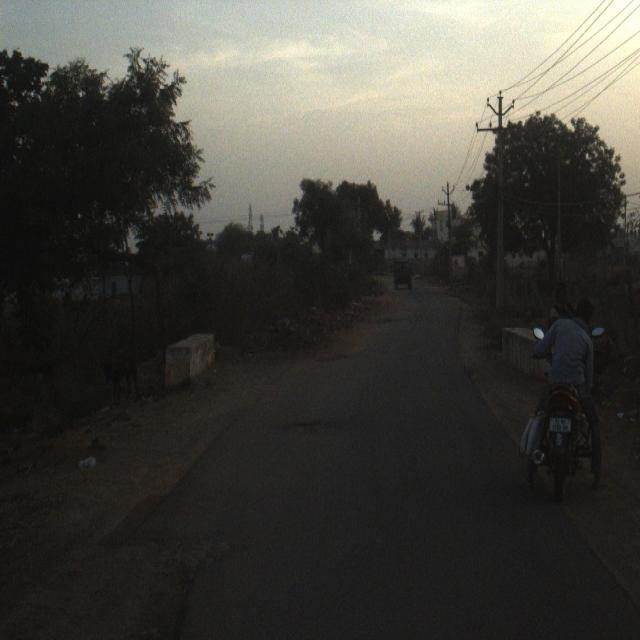pothole: (6, 522, 229, 639), (268, 382, 335, 447)
